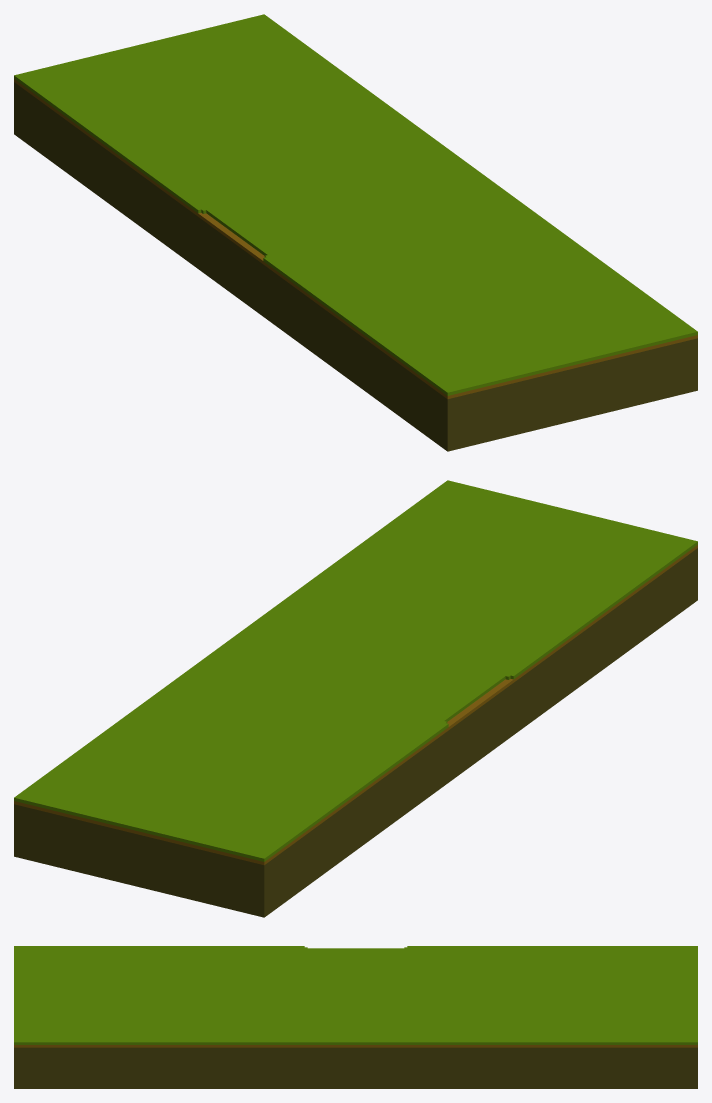
File: Tab C1-0.obj
3 views of the same model, one above another, from view 1: azimuth 30°, elevation 25°; view 2: azimuth 150°, elevation 25°; view 3: azimuth 270°, elevation 25° (orthographic). The views are drawn at different scales.
Size of the model in its own units: 8 by 1.8 by 24.
Materials: 1 (1 with a texture image).
